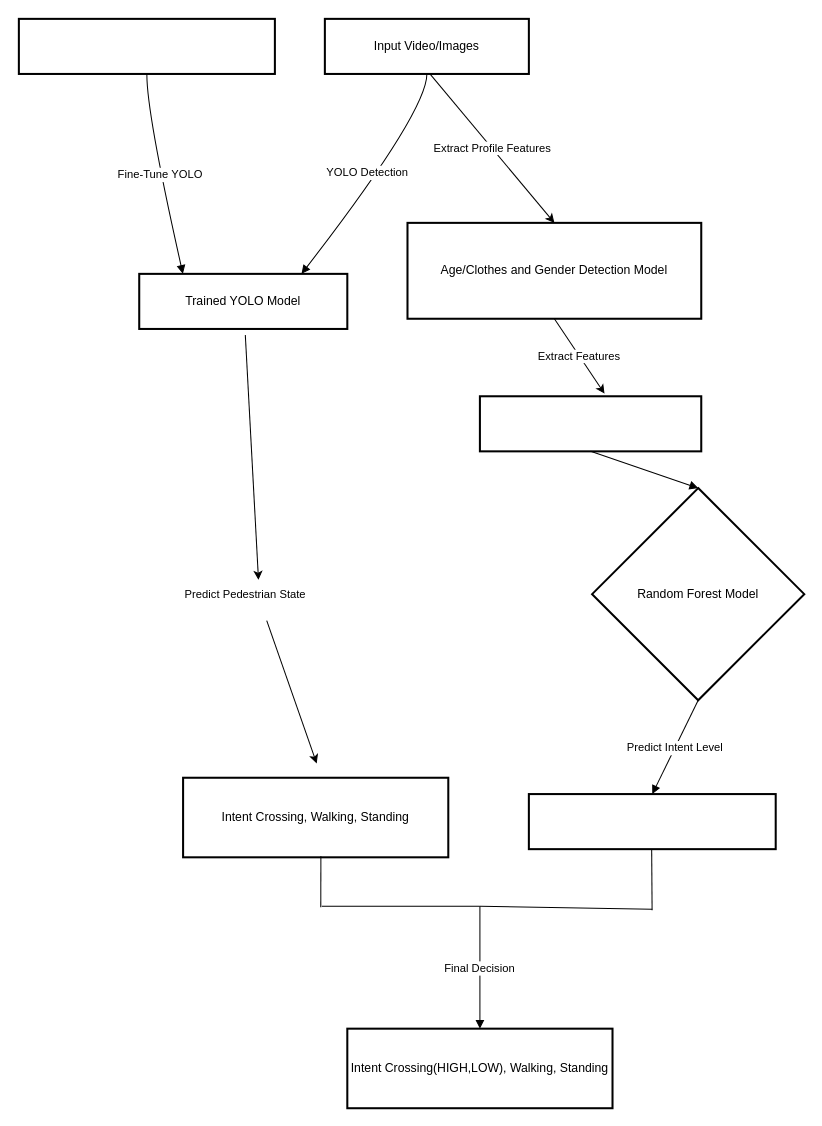
Some shapes in this 822 by 1126 pixel diagram are drawn without their labels. Here are the shapes that lost their labels. From the top down, the box of each, then its label:
(17, 17, 275, 74): Custom Annotated Dataset
(478, 395, 702, 452): Age, Gender, Clothing
(527, 793, 776, 850): Intent crossing Level: High or Low
